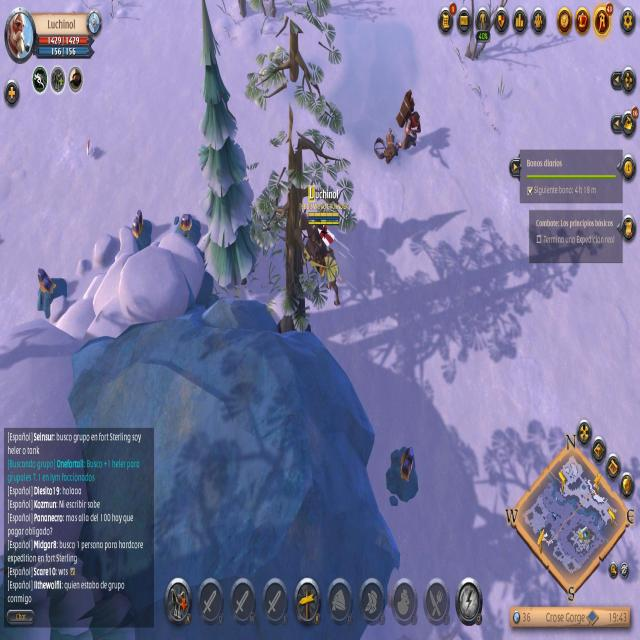piedra_cobre: (385, 446, 417, 504), (36, 267, 66, 319), (175, 214, 201, 246), (131, 210, 151, 251)
